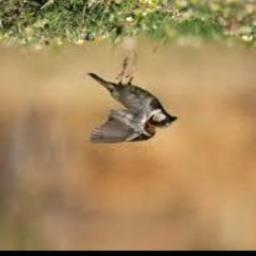Sparrow: (87, 52, 177, 144)
